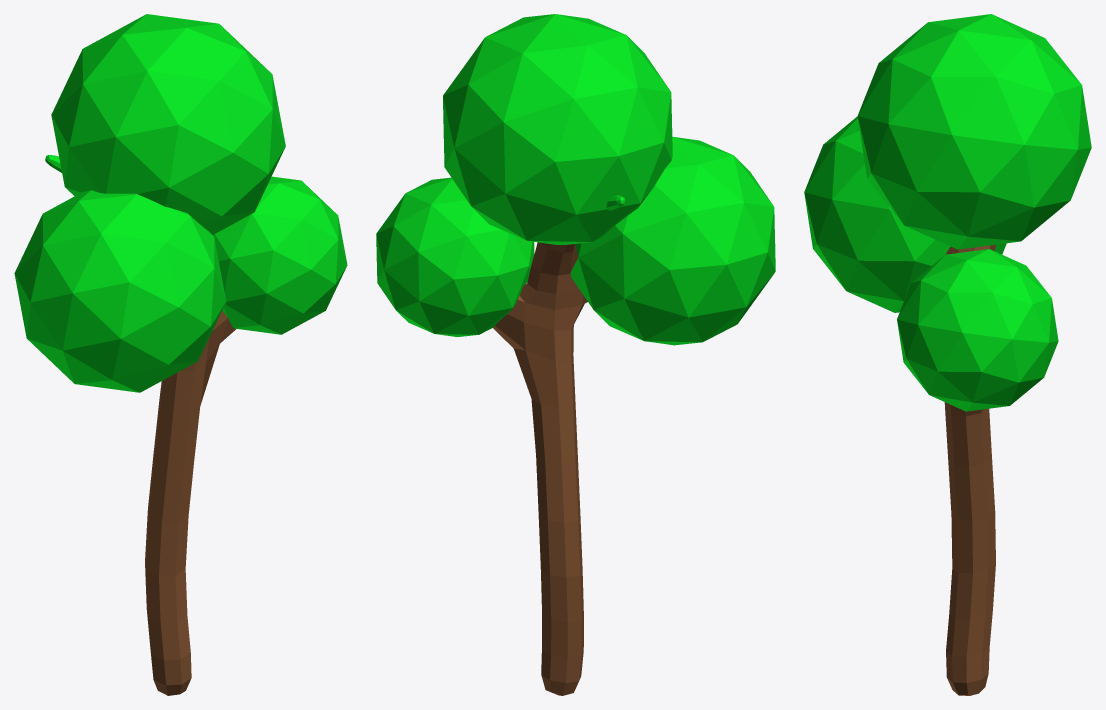
The model's file is Arvore.glb.
3 views of the same model, side by side, from view 1: azimuth 30°, elevation 25°; view 2: azimuth 150°, elevation 25°; view 3: azimuth 270°, elevation 25° (orthographic).
Visible parts, largest first — view 1: Icosphere.008; view 2: Icosphere.008; view 3: Icosphere.008.
Part boxes in pixels (<box>): Icosphere.008: <box>14,14,347,695</box>; Icosphere.008: <box>376,14,775,695</box>; Icosphere.008: <box>804,14,1091,695</box>.
Size of the model in its own units: 4.72 by 8.78 by 3.42.
